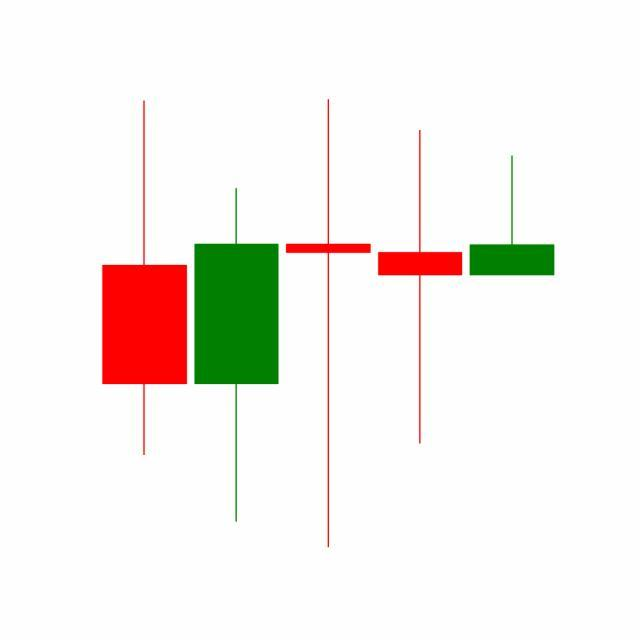Gravestone Doji: (466, 155, 559, 278)
